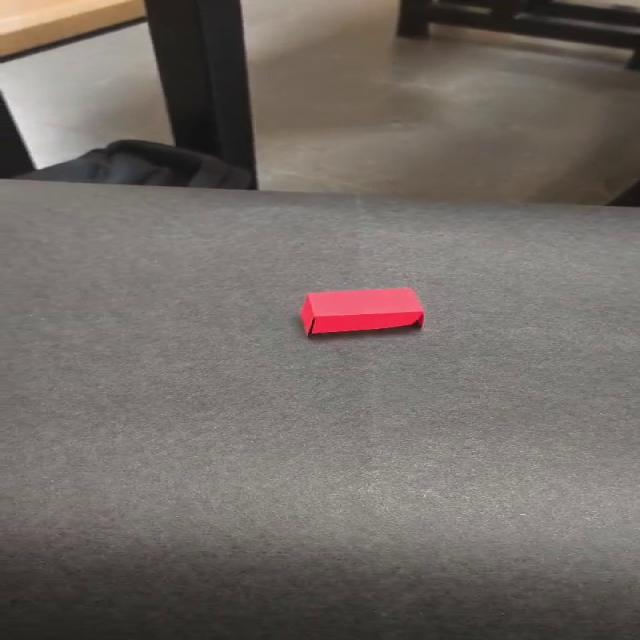red block: (299, 286, 425, 336)
